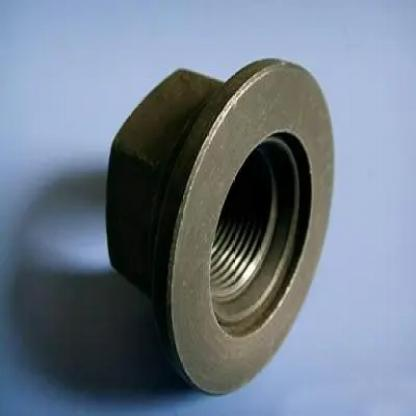FOD: (99, 43, 338, 402)
